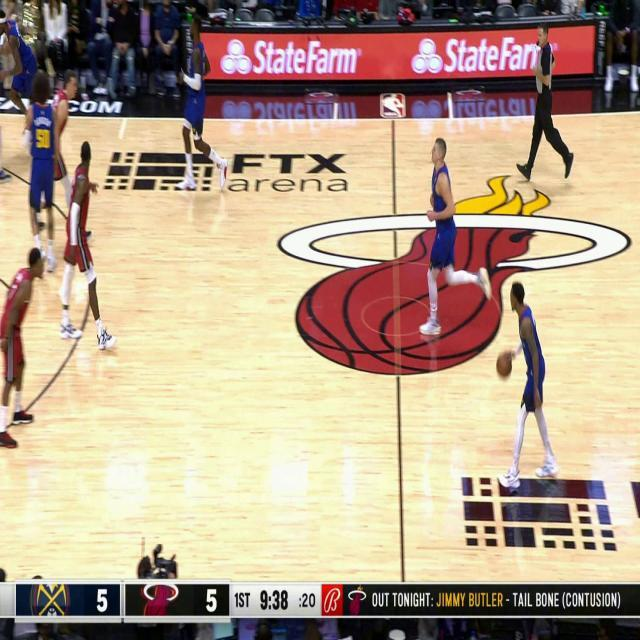rim: (497, 353, 512, 378)
